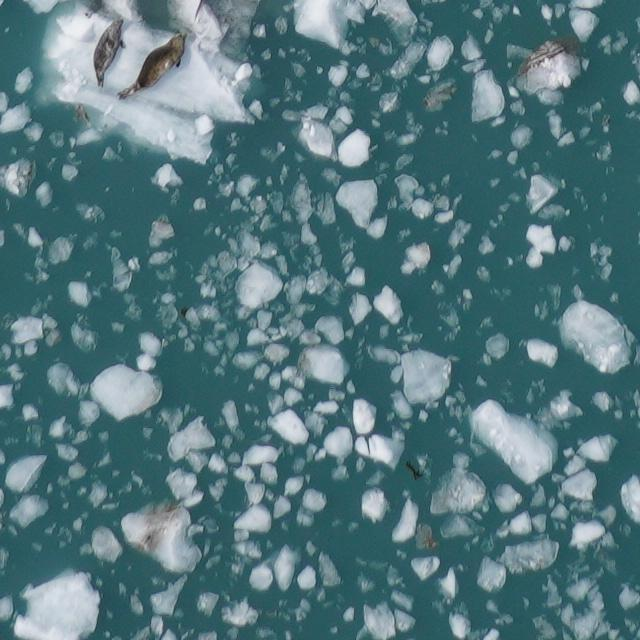seal: (108, 28, 201, 106), (78, 13, 136, 90)
